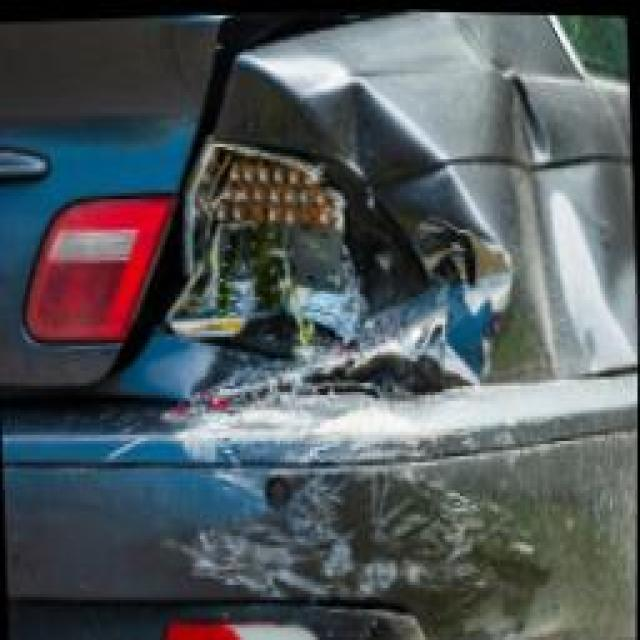Bumper: (95, 383, 511, 639)
Fender: (408, 64, 639, 391)
Light: (178, 132, 404, 391)
